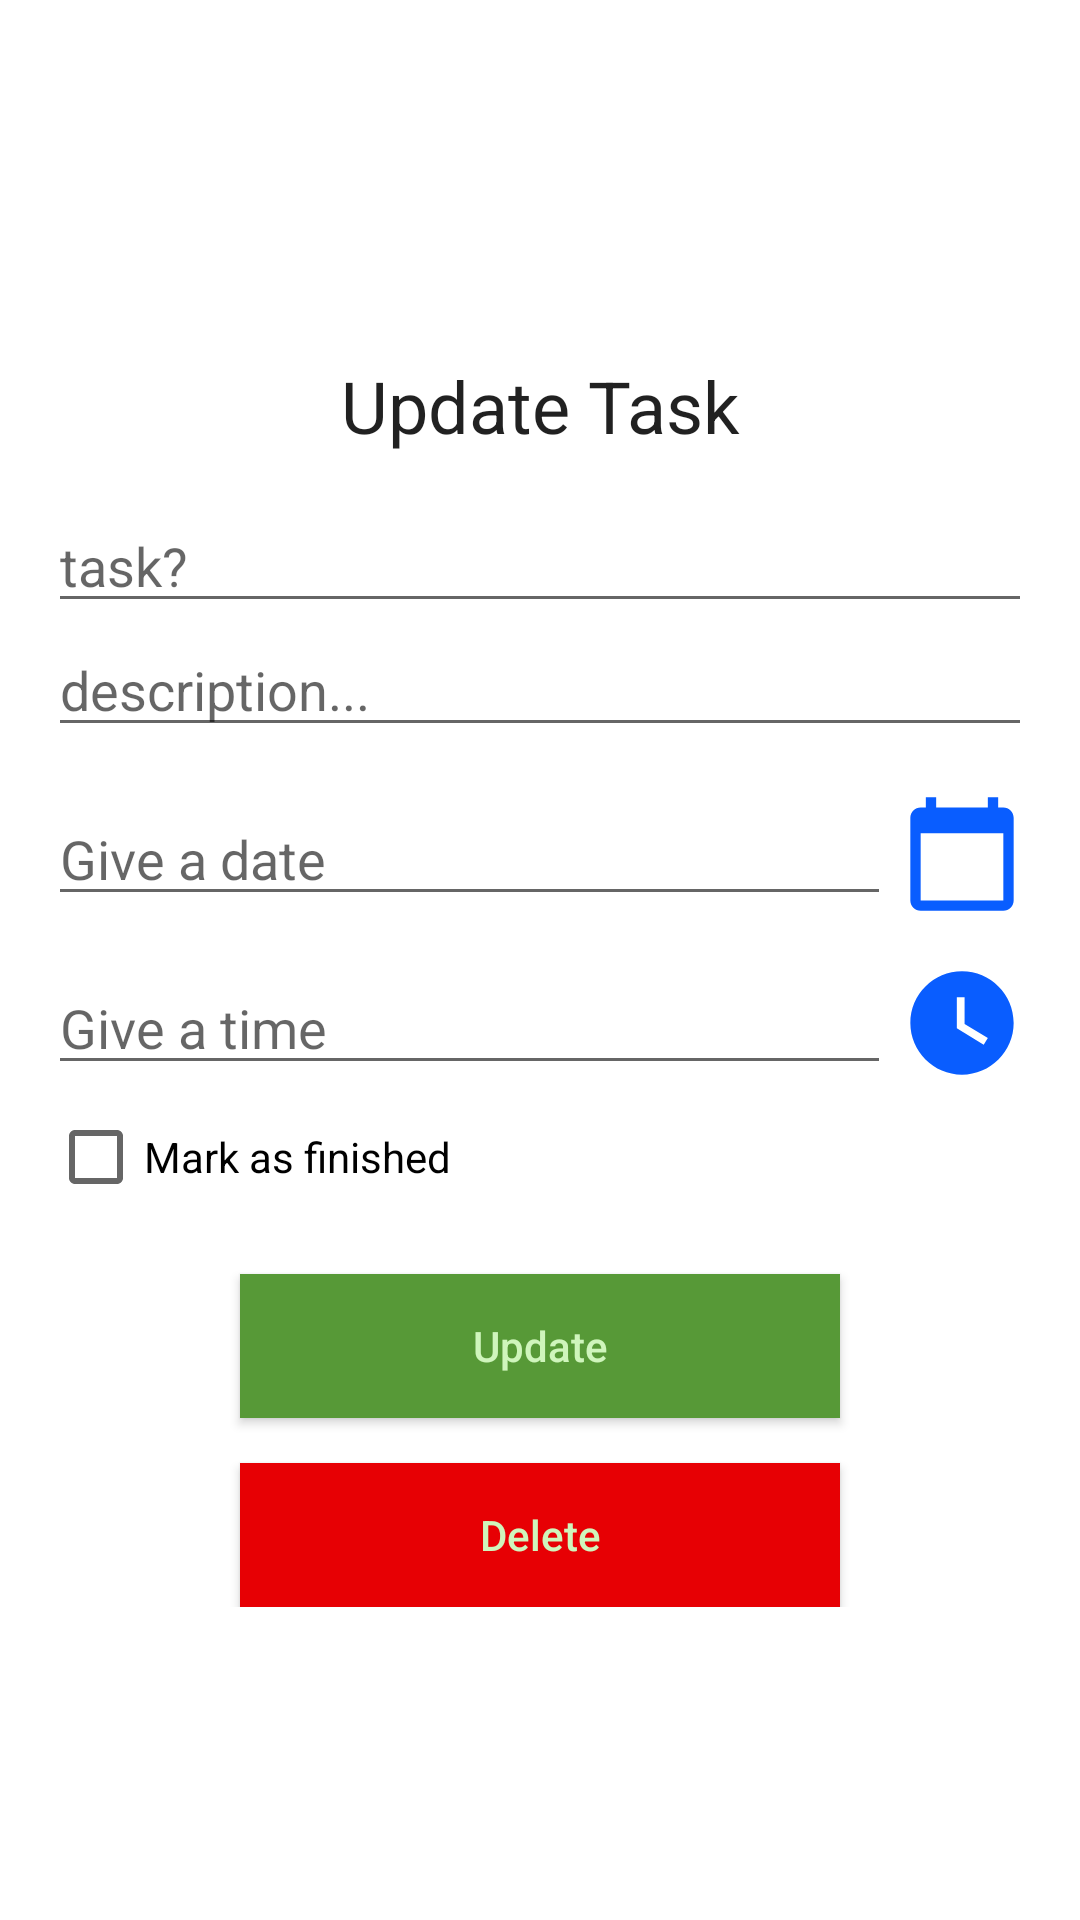

Screen size 1080 × 1920. Icon name, then its box in pixels as (x1, y1, x2, y2):
calendar: (910, 797, 1014, 911)
watch: (910, 971, 1014, 1075)
